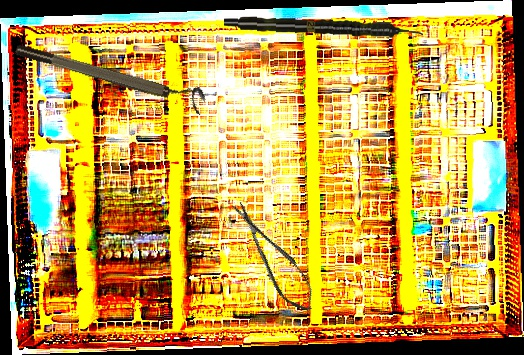Fixation Ring: (13, 32, 209, 116)
Handpiece: (223, 13, 424, 42)
Micro Scissor: (226, 194, 322, 319)
